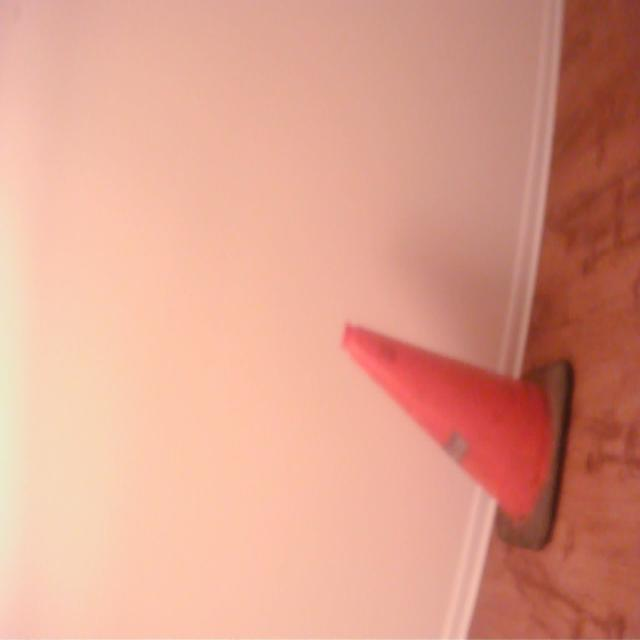traffic cone: (340, 317, 581, 560)
